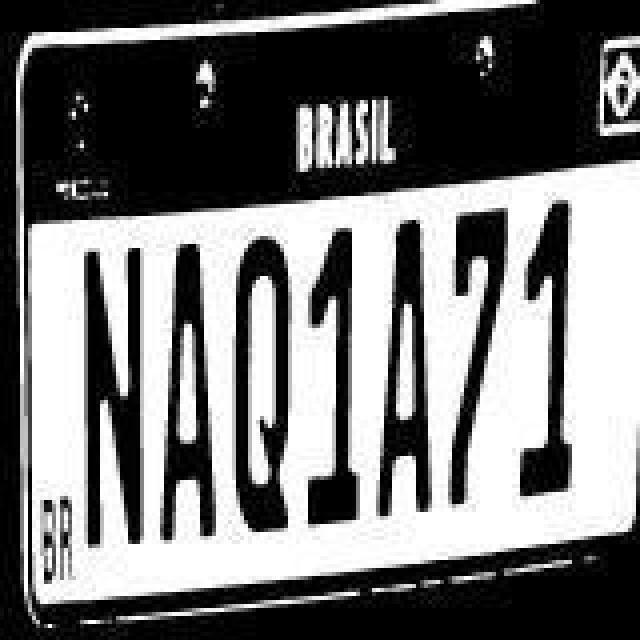1: (520, 196, 584, 492), (308, 226, 364, 526)
7: (448, 210, 512, 510)
A: (150, 242, 218, 542), (372, 218, 436, 518)
N: (76, 240, 148, 552)
Q: (230, 234, 298, 542)
